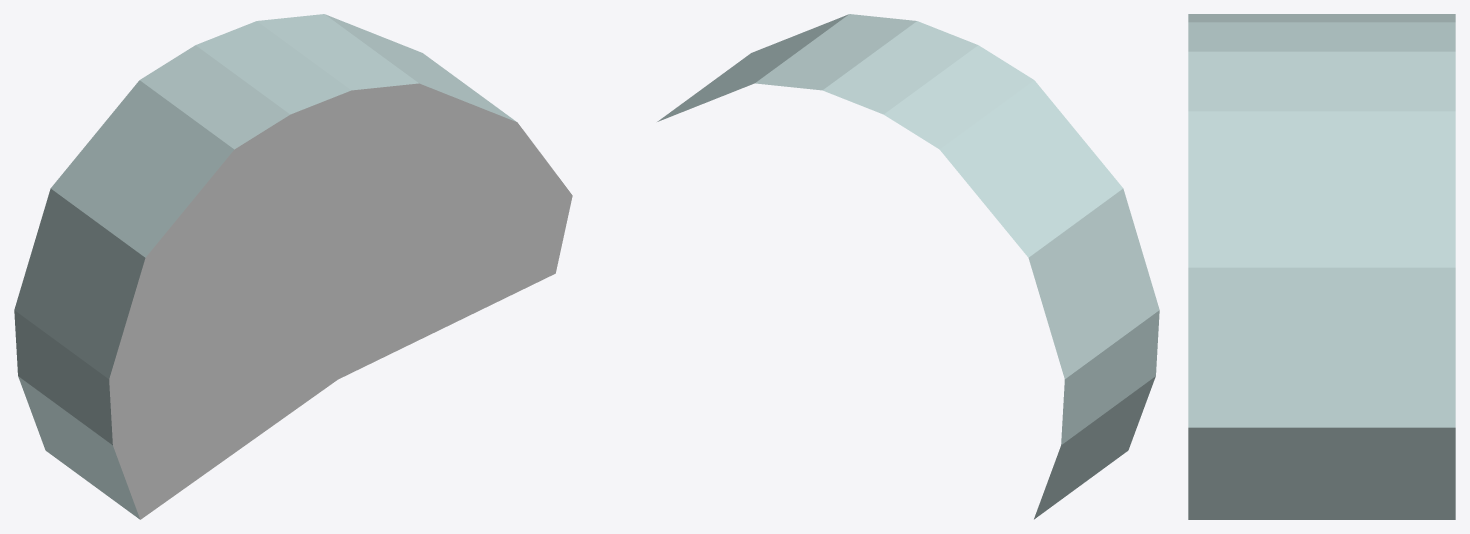
3 renders of one model, left to right at view 1: azimuth 30°, elevation 25°; view 2: azimuth 150°, elevation 25°; view 3: azimuth 270°, elevation 25°, orthographic. The views are drawn at different scales.
Parts seen in each view (by area): view 1: 0_2_2_3_3_3_3_3_1; view 2: 0_2_2_3_3_3_3_3_1; view 3: 0_2_2_3_3_3_3_3_1.
Part boxes in pixels (x1,y1,x2,y2): 0_2_2_3_3_3_3_3_1: (14, 14, 572, 519); 0_2_2_3_3_3_3_3_1: (657, 14, 1159, 519); 0_2_2_3_3_3_3_3_1: (1188, 14, 1455, 519).
Size of the model in its own units: 8.46 by 6.59 by 3.
